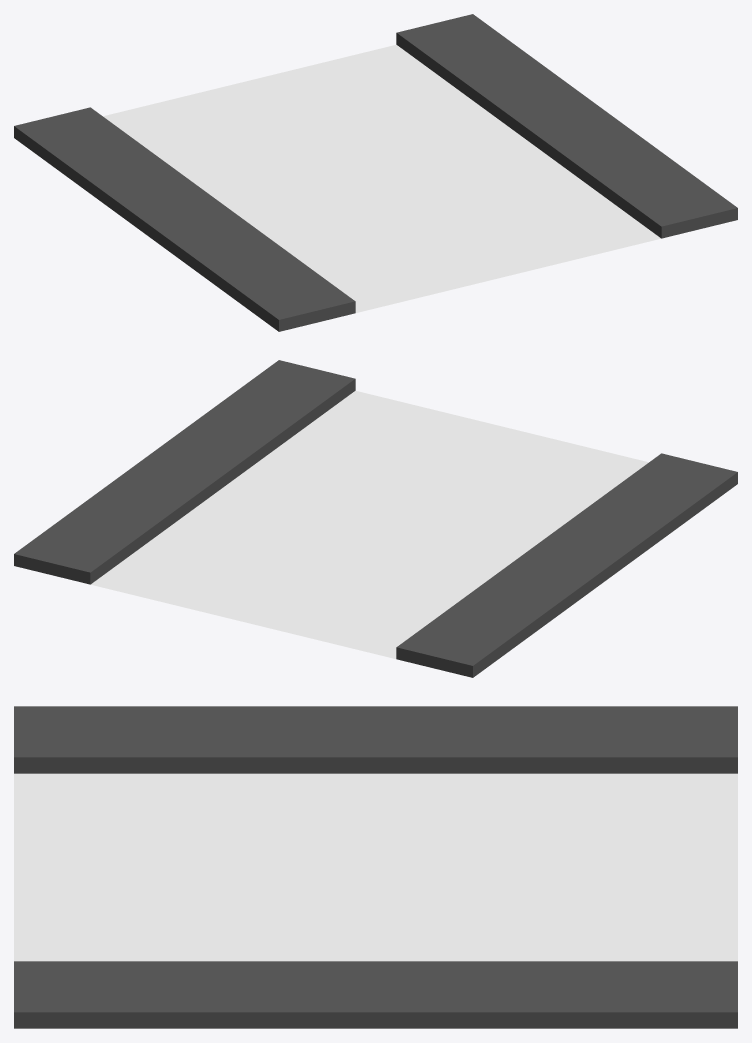
The model's file is RoadStraight.fbx.
The picture shows the model from 3 angles, top to bottom: view 1: azimuth 30°, elevation 25°; view 2: azimuth 150°, elevation 25°; view 3: azimuth 270°, elevation 25°; orthographic projection. The views are drawn at different scales.
Parts seen in each view (by area): view 1: RoadStraight; view 2: RoadStraight; view 3: RoadStraight.
Boxes of the visible parts, <box> form: RoadStraight: <box>14,14,737,331</box>; RoadStraight: <box>14,360,737,677</box>; RoadStraight: <box>14,706,737,1028</box>.
Bounding box in the file's own units: 1600 × 40 × 1600.
